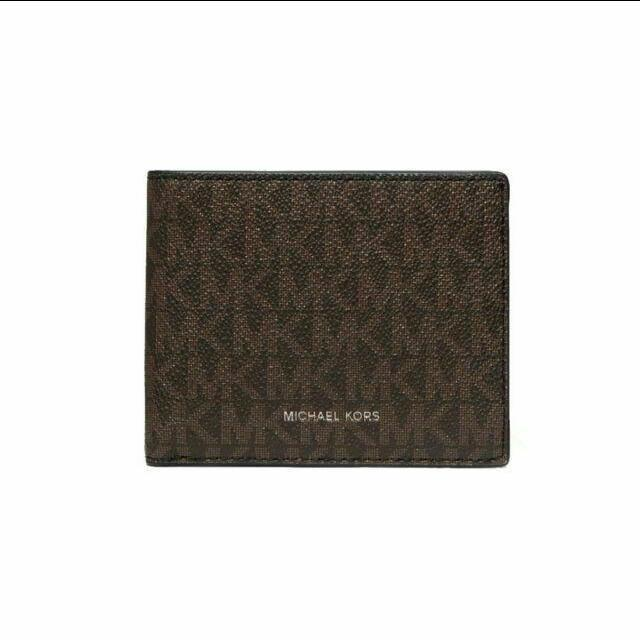wallet: (147, 169, 507, 465)
